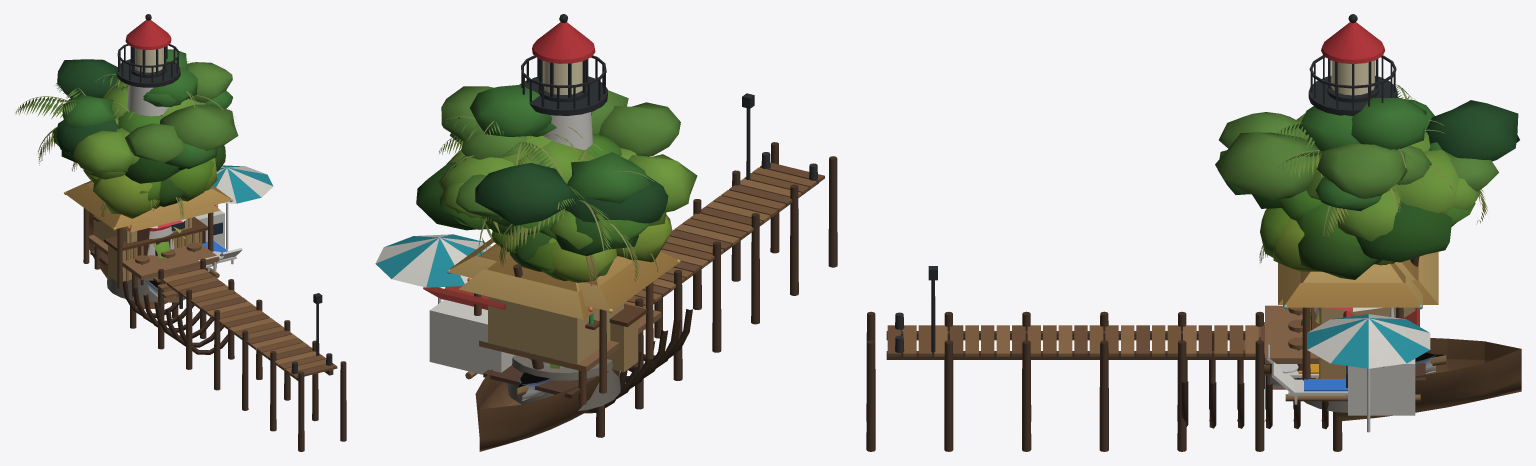
File: sea-props-DM5B5lZR.glb
3 views of the same model, side by side, from view 1: azimuth 30°, elevation 25°; view 2: azimuth 150°, elevation 25°; view 3: azimuth 270°, elevation 25° (orthographic). The views are drawn at different scales.
Visible parts, largest first — view 1: tree_c, dock, lighthouse, bar, tree_b, hut, tree_far, umbrellas, wreck, palm_b, tree_a, lighthouse_lamp; view 2: tree_c, dock, lighthouse, hut, wreck, bar, tree_far, tree_a, tree_b, umbrellas, palm_b, lighthouse_lamp (+2 smaller); view 3: tree_c, dock, lighthouse, wreck, umbrellas, bar, tree_far, tree_a, tree_b, hut, palm_a, lighthouse_lamp (+1 smaller).
Part boxes in pixels (x1,y1,x2,y2): tree_c: (56, 49, 238, 168); dock: (130, 258, 346, 451); lighthouse: (107, 14, 224, 301); bar: (64, 181, 233, 288); tree_b: (83, 145, 225, 218); hut: (87, 180, 220, 297); tree_far: (53, 86, 205, 183); umbrellas: (150, 165, 273, 271); wreck: (89, 211, 228, 354); palm_b: (15, 81, 128, 171); tree_a: (61, 110, 185, 179); lighthouse_lamp: (135, 47, 163, 72); tree_c: (441, 80, 680, 225); dock: (596, 93, 837, 437); lighthouse: (423, 14, 620, 410); hut: (459, 252, 661, 404); wreck: (475, 264, 692, 451); bar: (446, 238, 680, 393); tree_far: (416, 135, 697, 243); tree_a: (420, 133, 666, 255); tree_b: (491, 214, 672, 282); umbrellas: (375, 234, 491, 303); palm_b: (479, 141, 653, 286); lighthouse_lamp: (542, 60, 582, 94); tree_c: (1215, 98, 1519, 211); dock: (866, 266, 1342, 451); lighthouse: (1304, 14, 1419, 415); wreck: (1181, 257, 1521, 429); umbrellas: (1266, 307, 1430, 432); bar: (1283, 263, 1422, 380); tree_far: (1296, 113, 1458, 264); tree_a: (1252, 137, 1480, 261); tree_b: (1260, 208, 1395, 279); hut: (1243, 251, 1438, 379); palm_a: (1276, 120, 1444, 237); lighthouse_lamp: (1331, 60, 1374, 95).
Size of the model in its own units: 6.42 by 8.97 by 12.64.
